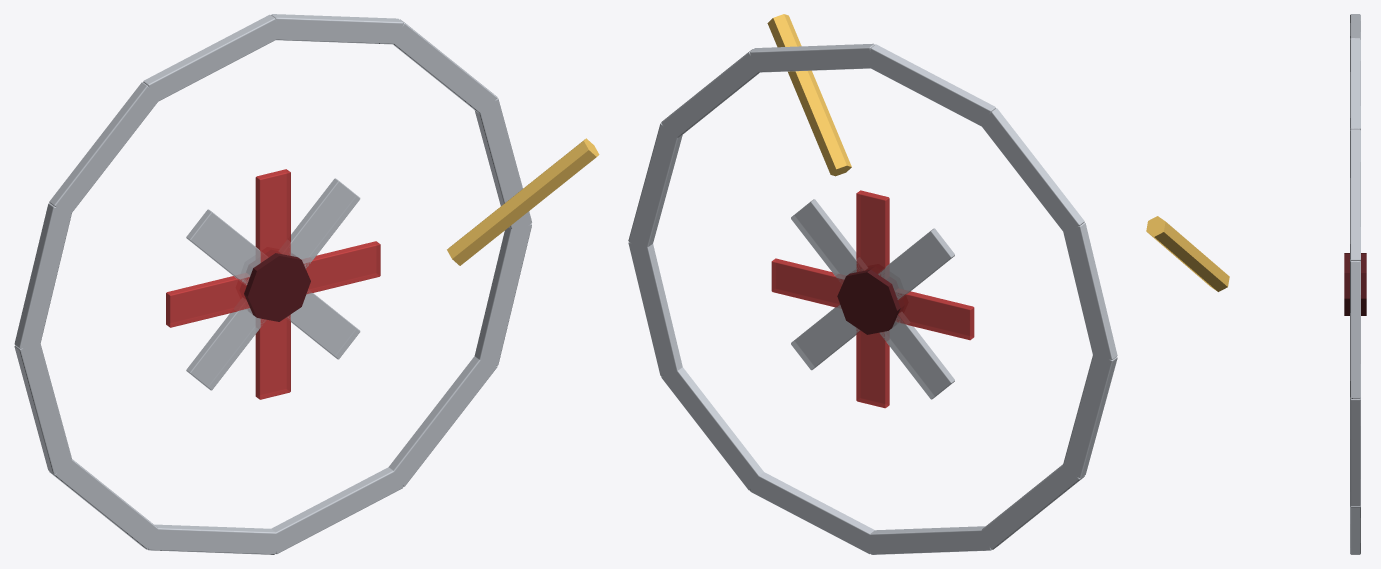
Rendered from deflect.glb.
3 views of the same model, side by side, from view 1: azimuth 30°, elevation 25°; view 2: azimuth 150°, elevation 25°; view 3: azimuth 270°, elevation 25° (orthographic). The views are drawn at different scales.
Visible parts, largest first — view 1: deflect, spoke_3, spoke_0, spoke_2, spoke_1, bounced_bolt, hub; view 2: deflect, spoke_3, spoke_0, spoke_2, spoke_1, bounced_bolt, hub; view 3: deflect, bounced_bolt, hub.
Part boxes in pixels (x1,y1,x2,y2): deflect: (14, 14, 531, 554); spoke_3: (186, 178, 360, 390); spoke_0: (255, 169, 290, 399); spoke_2: (166, 241, 380, 327); spoke_1: (186, 209, 360, 359); bounced_bolt: (447, 138, 599, 265); hub: (240, 250, 310, 321); deflect: (628, 43, 1117, 554); spoke_3: (791, 199, 954, 399); spoke_0: (856, 190, 889, 408); spoke_2: (771, 258, 974, 340); spoke_1: (791, 228, 954, 370); bounced_bolt: (767, 14, 851, 176); hub: (837, 267, 904, 334); deflect: (1350, 14, 1360, 554); bounced_bolt: (1146, 216, 1229, 291); hub: (1344, 253, 1366, 315).
Bounding box in the file's own units: 0.9718 × 0.9718 × 0.3948.
